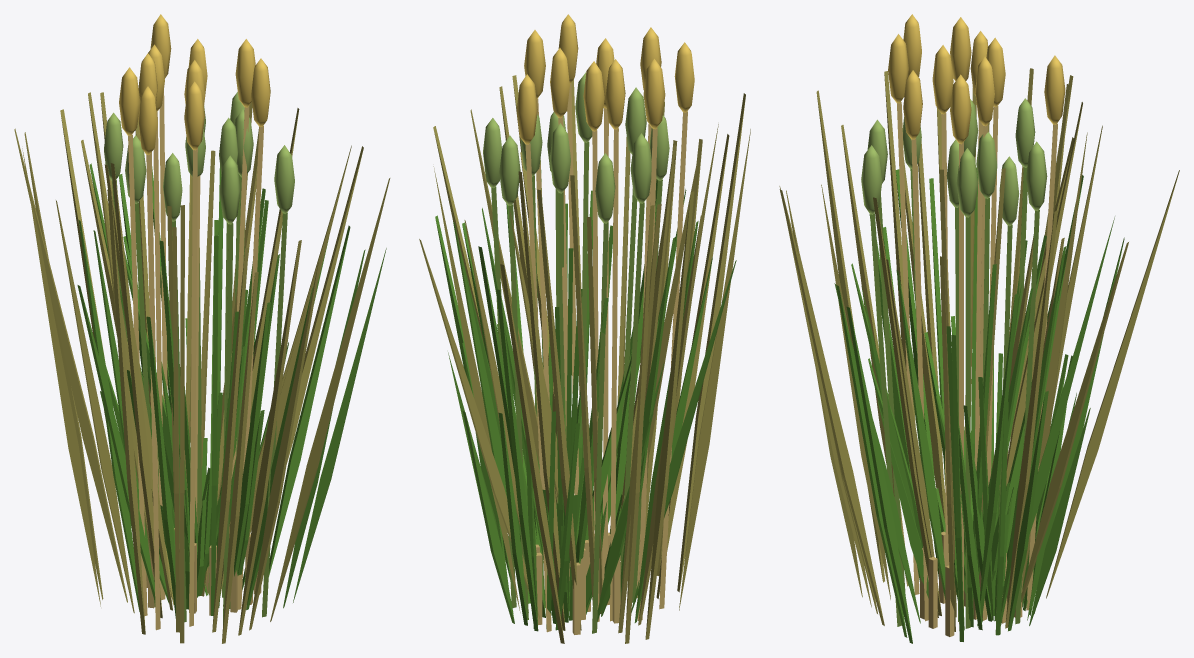
File: Crop_Grain_Millet.fbx
3 views of the same model, side by side, from view 1: azimuth 30°, elevation 25°; view 2: azimuth 150°, elevation 25°; view 3: azimuth 270°, elevation 25° (orthographic). The views are drawn at different scales.
Visible parts, largest first — view 1: Crop_Grain_Millet__S4, Crop_Grain_Millet__S3, Crop_Grain_Millet__S2, Crop_Grain_Millet__S5, Crop_Grain_Millet__S1; view 2: Crop_Grain_Millet__S4, Crop_Grain_Millet__S3, Crop_Grain_Millet__S2, Crop_Grain_Millet__S5, Crop_Grain_Millet__S1; view 3: Crop_Grain_Millet__S4, Crop_Grain_Millet__S3, Crop_Grain_Millet__S2, Crop_Grain_Millet__S5, Crop_Grain_Millet__S1.
Boxes of the visible parts, x1,y1,x2,y2 form: Crop_Grain_Millet__S4: (14,14,390,643); Crop_Grain_Millet__S3: (77,92,386,623); Crop_Grain_Millet__S2: (100,289,288,606); Crop_Grain_Millet__S5: (146,438,261,615); Crop_Grain_Millet__S1: (160,467,220,609); Crop_Grain_Millet__S4: (419,14,750,643); Crop_Grain_Millet__S3: (435,72,736,633); Crop_Grain_Millet__S2: (448,324,663,630); Crop_Grain_Millet__S5: (532,457,625,634); Crop_Grain_Millet__S1: (555,494,622,622); Crop_Grain_Millet__S4: (779,14,1179,631); Crop_Grain_Millet__S3: (834,98,1124,643); Crop_Grain_Millet__S2: (868,316,1090,635); Crop_Grain_Millet__S5: (920,482,1026,636); Crop_Grain_Millet__S1: (936,484,1013,621).
Bounding box in the file's own units: 0.193 × 0.3421 × 0.2223.
